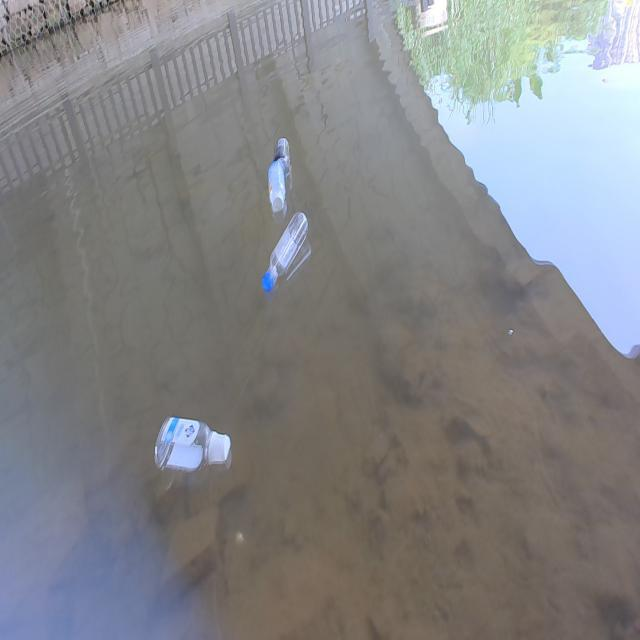bottle: (139, 391, 247, 482), (257, 210, 314, 295), (264, 155, 291, 217)
